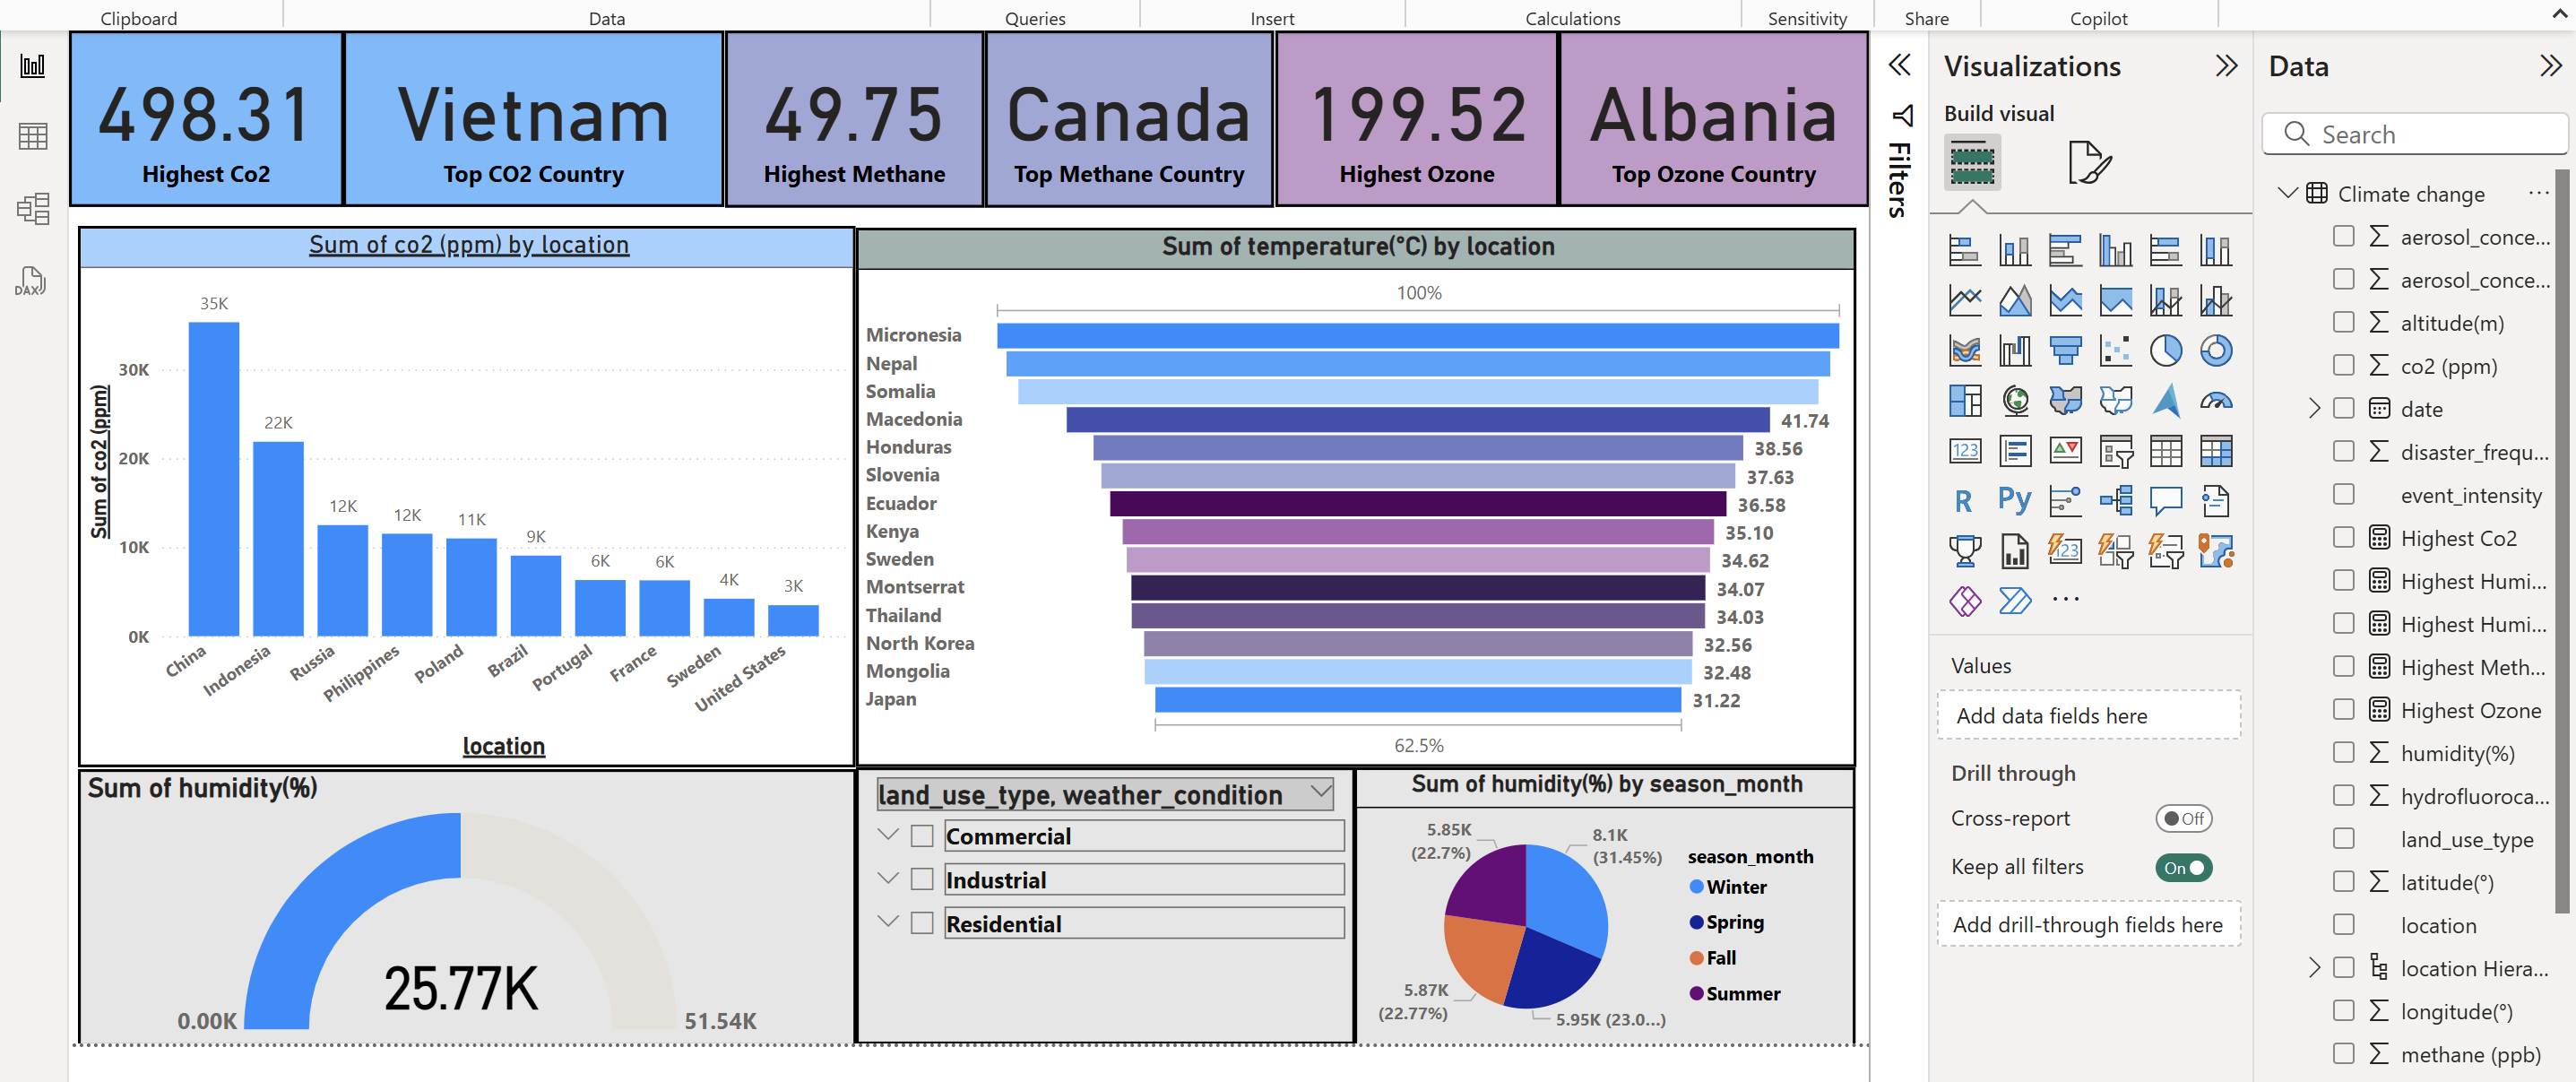

Layout of this report page (visuals, bound fields, positions):
{"tool":"powerbi","page":{"name":"Climate","canvas":[1280,720],"ordinal":0},"visuals":[{"type":"clusteredColumnChart","fields":{"Category":["Climate change.location"],"Y":["Sum(Climate change.co2 (ppm))"]},"box":[6.1,139.4,552.9,384.8],"z":0},{"type":"card","fields":{"Values":["Climate change.Highest Co2"]},"box":[0,0,195.4,125.7],"z":1000},{"type":"card","fields":{"Values":["Climate change.Highest Methane"]},"box":[466.1,0,184.4,125.9],"z":2000},{"type":"card","fields":{"Values":["Climate change.Highest Ozone"]},"box":[857.4,0,201.5,125.7],"z":3000},{"type":"card","fields":{"Values":["Climate change.Top Methane Country"]},"box":[652,0,205.3,125.9],"z":4000},{"type":"card","fields":{"Values":["Climate change.Top Ozone Country"]},"box":[1058.8,0,221.2,125.7],"z":5000},{"type":"card","fields":{"Values":["Climate change.Top CO2 Country"]},"box":[195.4,0,271.1,125.7],"z":6000},{"type":"funnel","fields":{"Y":["Sum(Climate change.temperature(°C))"],"Category":["Climate change.location"]},"box":[559.5,139.9,711.4,383.5],"z":7000},{"type":"gauge","fields":{"Y":["Sum(Climate change.humidity(%))"]},"box":[6,524.9,553.5,197],"z":8000},{"type":"slicer","fields":{"Values":["Climate change.land_use_type","Climate change.weather_condition"]},"box":[559.5,523.4,355,197],"z":9000},{"type":"pieChart","fields":{"Category":["Climate change.season_month"],"Y":["Sum(Climate change.humidity(%))"]},"box":[914.5,523.4,356.5,198.5],"z":10000}]}

Visuals, with their boxes in screenshot pixels (x1, y1, x2, y2):
clusteredColumnChart - Climate change.location x Sum(Climate change.co2 (ppm)): x1=56, y1=212, x2=844, y2=761
card - Climate change.Highest Co2: x1=47, y1=13, x2=325, y2=193
card - Climate change.Highest Methane: x1=712, y1=13, x2=975, y2=193
card - Climate change.Highest Ozone: x1=1270, y1=13, x2=1558, y2=193
card - Climate change.Top Methane Country: x1=977, y1=13, x2=1270, y2=193
card - Climate change.Top Ozone Country: x1=1558, y1=13, x2=1873, y2=193
card - Climate change.Top CO2 Country: x1=325, y1=13, x2=713, y2=193
funnel - Sum(Climate change.temperature(°C)) x Climate change.location: x1=845, y1=213, x2=1861, y2=760
gauge - Sum(Climate change.humidity(%)): x1=56, y1=763, x2=845, y2=1043
slicer - Climate change.land_use_type x Climate change.weather_condition: x1=845, y1=760, x2=1352, y2=1042
pieChart - Climate change.season_month x Sum(Climate change.humidity(%)): x1=1352, y1=760, x2=1861, y2=1043
